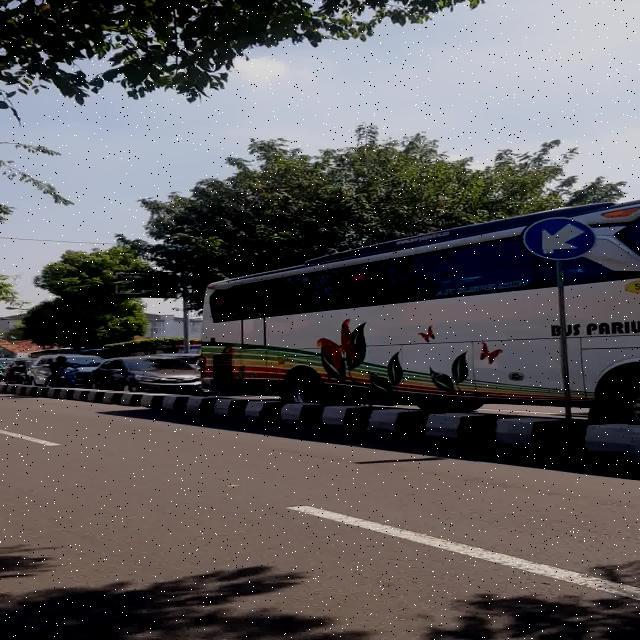Lajur Kiri: (522, 217, 594, 261)
